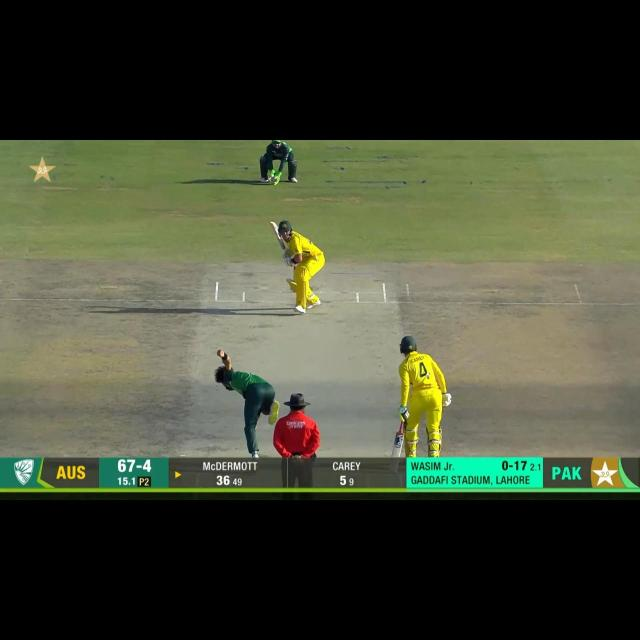bat: (270, 219, 286, 250), (391, 434, 406, 458)
toe: (269, 220, 279, 231)
